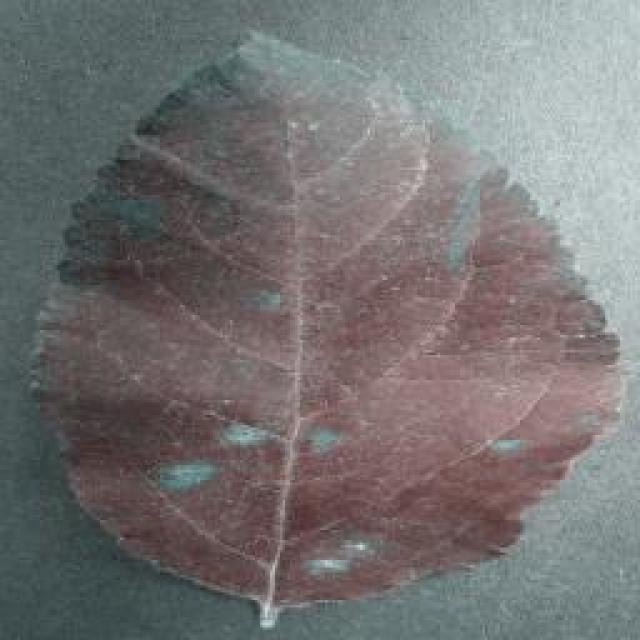apple rust disease: (27, 27, 625, 625)
